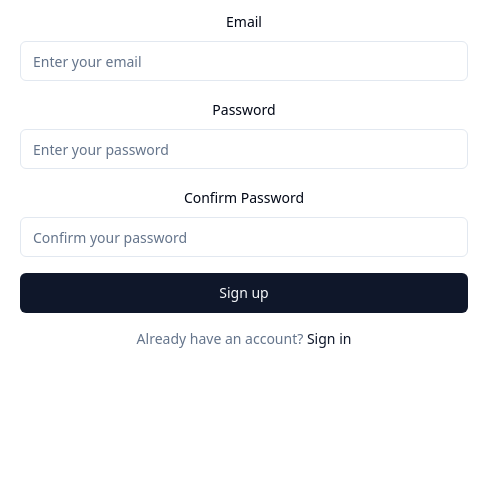
it: SignUpForm › Password Strength Indicator › shows medium strength for passwords with 3-4 requirements
Expected: the field labelled "Email" is shown, [20, 41, 468, 81]
Type "Password1" into the password field with placeholder "Enter your password" at (244, 149), box [20, 129, 468, 169]
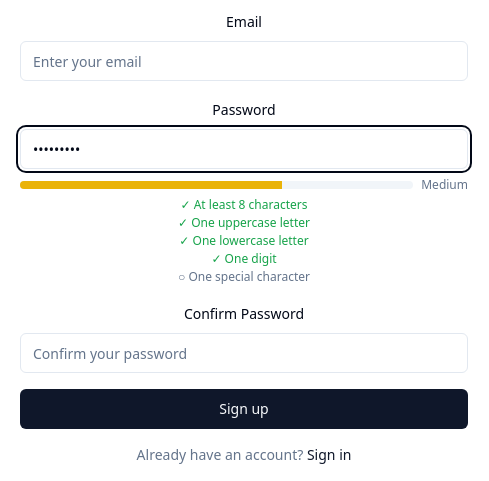
Expected: the text "medium" is shown, [421, 177, 468, 193]
